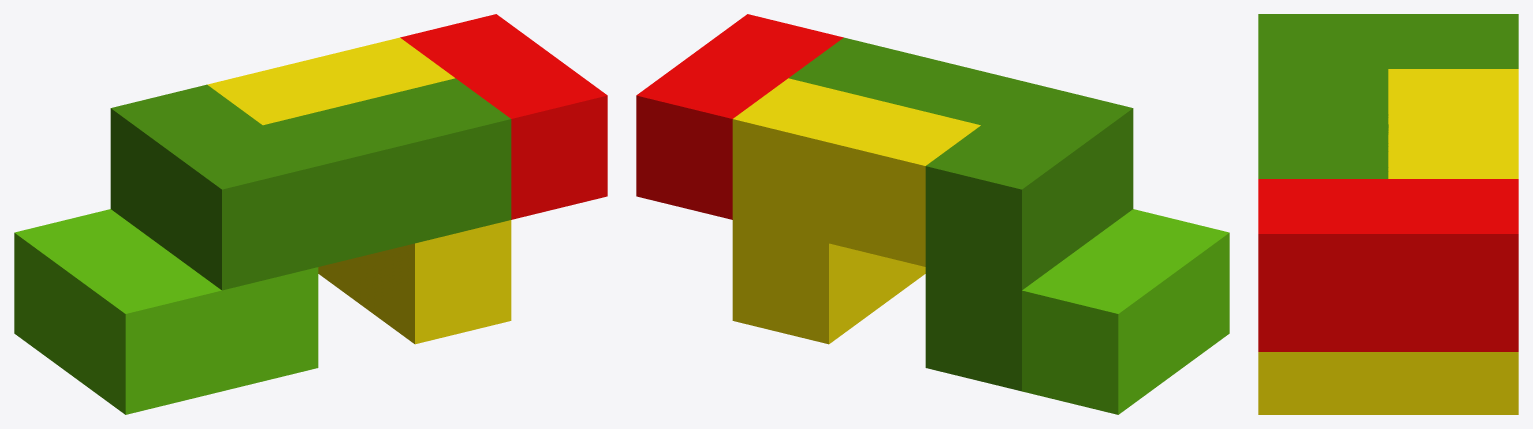
3 views of the same model, side by side, from view 1: azimuth 30°, elevation 25°; view 2: azimuth 150°, elevation 25°; view 3: azimuth 270°, elevation 25° (orthographic). The views are drawn at different scales.
Parts seen in each view (by area): view 1: mergedBlocks(Clone); view 2: mergedBlocks(Clone); view 3: mergedBlocks(Clone).
Boxes of the visible parts, bbox=[...] form: mergedBlocks(Clone): bbox=[14, 14, 607, 414]; mergedBlocks(Clone): bbox=[636, 14, 1229, 414]; mergedBlocks(Clone): bbox=[1258, 14, 1518, 414].
Bounding box in the file's own units: 5 × 2 × 2.
4 materials, 4 textured.
